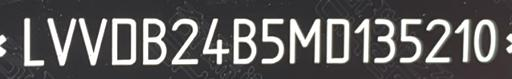letter: (44, 14, 76, 69), (288, 17, 322, 66), (78, 16, 108, 69), (168, 18, 200, 65), (258, 14, 286, 67), (396, 15, 424, 66), (111, 16, 139, 67), (140, 17, 168, 68), (21, 15, 47, 68), (370, 15, 398, 64), (202, 17, 230, 66), (424, 17, 452, 64), (230, 17, 256, 66), (324, 17, 350, 66), (472, 18, 498, 65), (353, 15, 373, 64), (454, 17, 472, 64)
